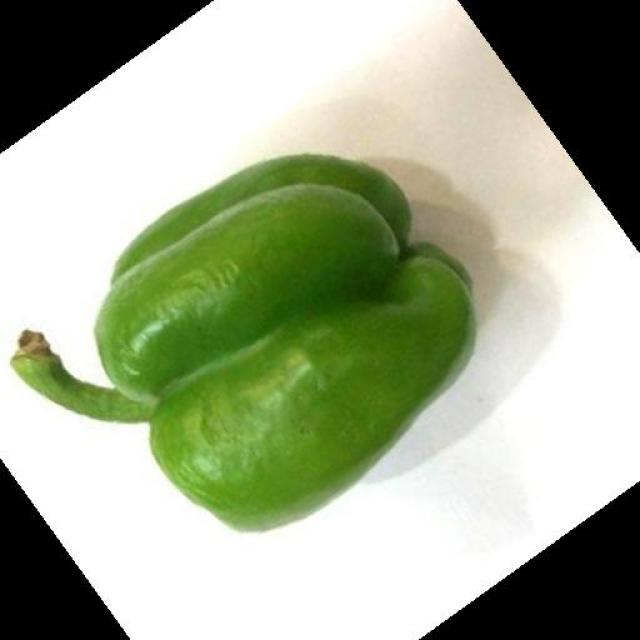Fresh_Capsicum: (39, 162, 488, 514)
